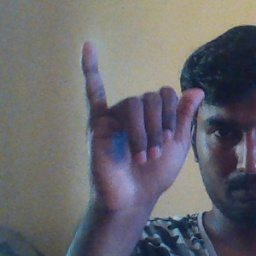J: (77, 40, 205, 199)
